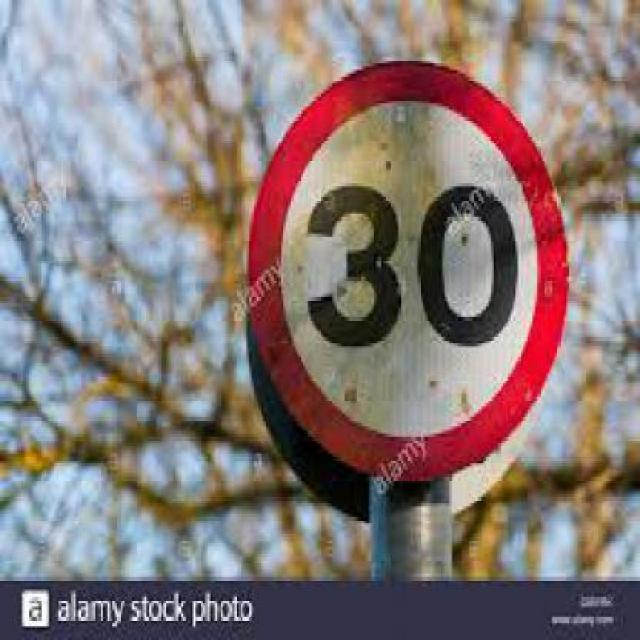Ograniczenie predkosci do 30: (244, 63, 576, 480)
